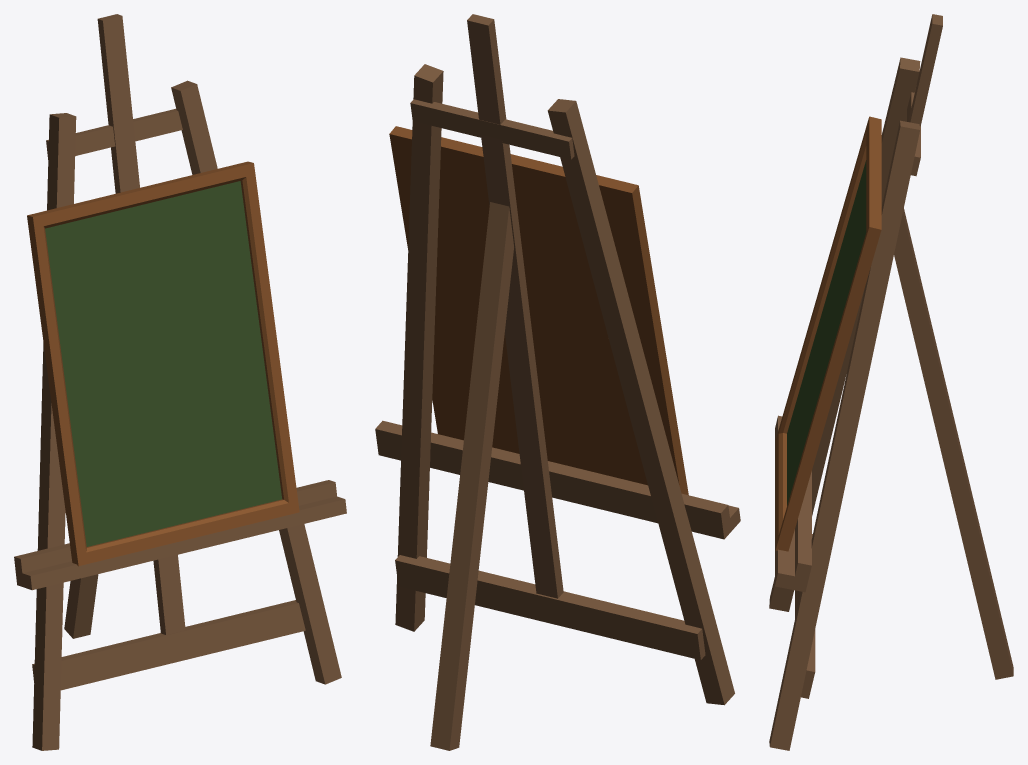
File: ScoreHolder.fbx
3 renders of one model, left to right at view 1: azimuth 30°, elevation 25°; view 2: azimuth 150°, elevation 25°; view 3: azimuth 270°, elevation 25°, orthographic. The views are drawn at different scales.
Parts seen in each view (by area): view 1: Cube.015, Cube.003, Cube.004, Cube.005, Cube.012, Cube.013, Cube.014; view 2: Cube.015, Cube.003, Cube.014, Cube.012, Cube.004, Cube.005, Cube.013; view 3: Cube.003, Cube.015, Cube.014, Cube.005, Cube.012, Cube.004.
Boxes of the visible parts, x1,y1,x2,y2 form: Cube.015: (27, 161, 299, 566); Cube.003: (32, 80, 341, 750); Cube.004: (32, 600, 305, 690); Cube.005: (14, 480, 346, 590); Cube.012: (97, 14, 185, 634); Cube.013: (46, 108, 182, 159); Cube.014: (64, 574, 98, 638); Cube.015: (389, 126, 688, 495); Cube.003: (395, 64, 734, 705); Cube.014: (430, 202, 513, 750); Cube.012: (467, 14, 563, 598); Cube.004: (395, 555, 705, 660); Cube.005: (375, 420, 740, 539); Cube.013: (410, 99, 574, 159); Cube.003: (769, 57, 920, 750); Cube.015: (775, 116, 881, 551); Cube.014: (894, 208, 1013, 679); Cube.005: (775, 415, 811, 592); Cube.012: (908, 14, 942, 126); Cube.004: (795, 534, 815, 698).
Size of the model in its own units: 149 by 291 by 97.82.
